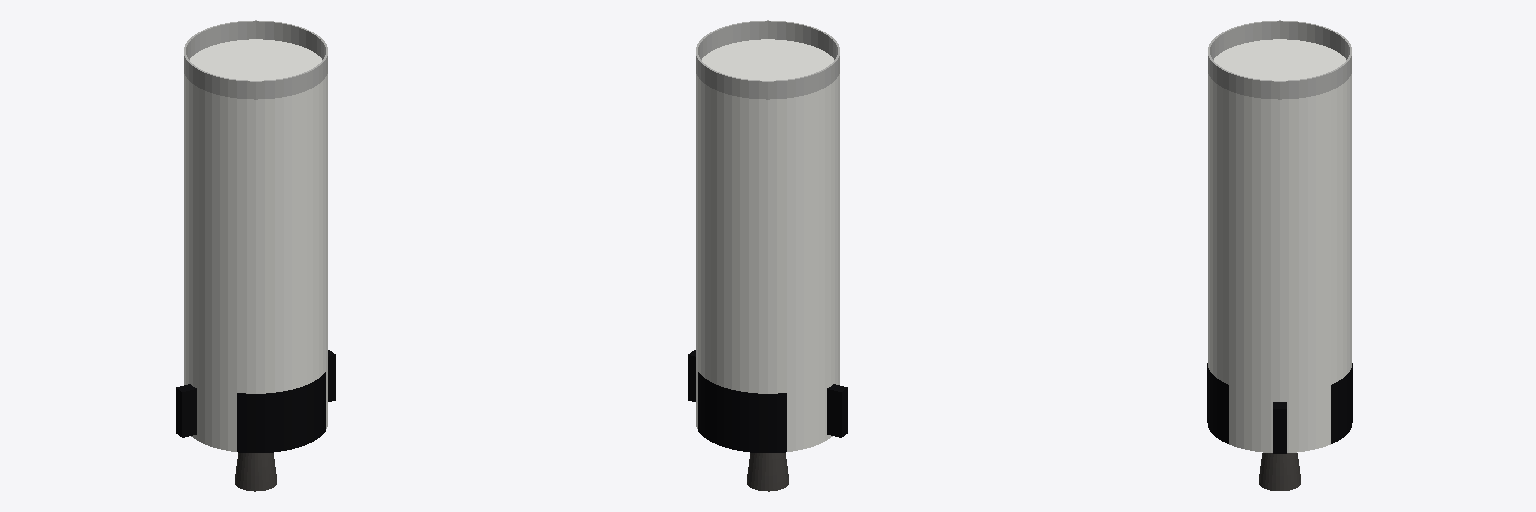
The robot description file, URDF, robot "s_ivb":
<?xml version="1.0"?>
<!-- S-IVB third stage, one J-2 engine, and the Instrument Unit, at scale -->
<robot name="s_ivb">
  <link name="base">
    <visual>
      <origin xyz="0 0 0" rpy="0 0 0"/>
      <geometry><mesh filename="meshes/s_ivb_white.stl"/></geometry>
      <material name="base_0"><color rgba="0.920 0.920 0.900 1"/></material>
    </visual>
    <visual>
      <origin xyz="0 0 0" rpy="0 0 0"/>
      <geometry><mesh filename="meshes/s_ivb_black.stl"/></geometry>
      <material name="base_1"><color rgba="0.080 0.080 0.090 1"/></material>
    </visual>
    <visual>
      <origin xyz="0 0 0" rpy="0 0 0"/>
      <geometry><mesh filename="meshes/s_ivb_iu.stl"/></geometry>
      <material name="base_2"><color rgba="0.750 0.750 0.740 1"/></material>
    </visual>
    <visual>
      <origin xyz="0 0 0" rpy="0 0 0"/>
      <geometry><mesh filename="meshes/s_ivb_engine.stl"/></geometry>
      <material name="base_3"><color rgba="0.300 0.290 0.280 1"/></material>
    </visual>
    <inertial><mass value="11950"/><origin xyz="0 0 0"/><inertia ixx="1" ixy="0" ixz="0" iyy="1" iyz="0" izz="1"/></inertial>
  </link>
</robot>

--- What the picture shows (computed from the rendered views, not written in the file) ---
Views: 3 orthographic renders of the robot side by side, from view 1: azimuth 30°, elevation 25°; view 2: azimuth 150°, elevation 25°; view 3: azimuth 270°, elevation 25°.
Robot: s_ivb — 1 links, 0 joints (none); root link base; default pose: every joint at zero.
Links seen in each view (by area): view 1: base; view 2: base; view 3: base.
Link boxes in pixels (<box>): base: <box>176,20,335,491</box>; base: <box>688,20,847,491</box>; base: <box>1207,20,1352,490</box>.
Size in the robot's own frame: 8.1 by 6.62 by 21.7 metres.
Meshes: 4 distinct files referenced, 4 mesh visuals loaded (4 binary STL).
